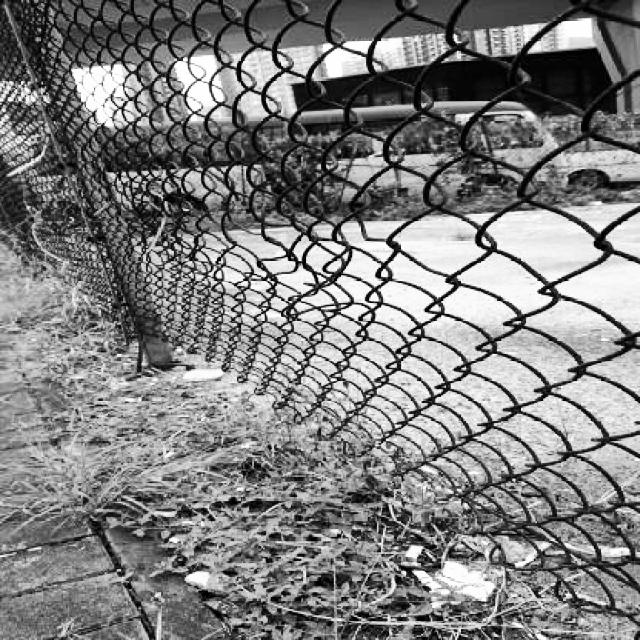fences: (141, 8, 640, 530)
